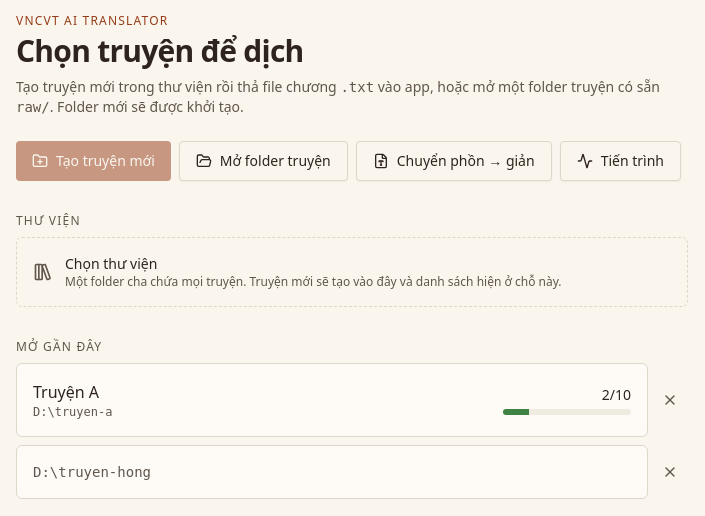
it: StoryPicker · Mở gần đây › bấm X bỏ truyện khỏi danh sách: chỉ ghi config.recent, không gọi gì xoá file
This screenshot has width=705, height=516.
Check: the text "Truyện A" is shown, box x1=33 y1=380 x2=99 y2=404
Click the button named "Bỏ D:\\truyen-a khỏi danh sách". click: (670, 400)
box: x1=652 y1=363 x2=688 y2=437
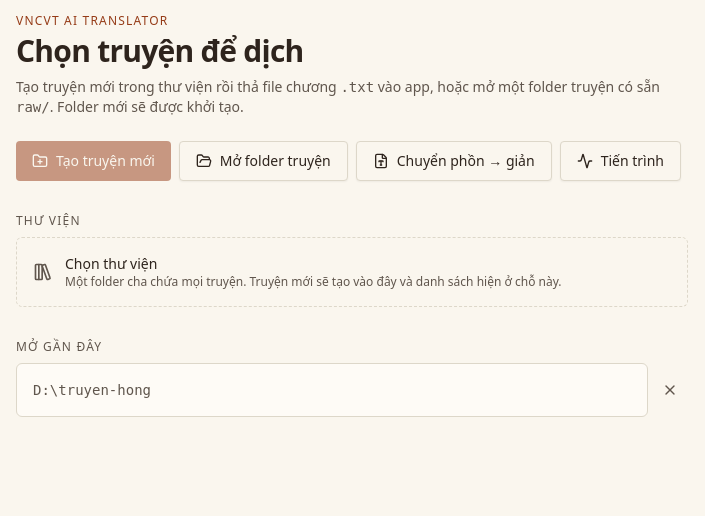
Check: the button "Truyện A" is gone
# Folder hỏng (không đọc được) vẫn bỏ được — đó là lúc cần nút này nhất.
Click the button named "Bỏ D:\\truyen-hong khỏi danh sách". click: (670, 390)
box: x1=652 y1=363 x2=688 y2=417
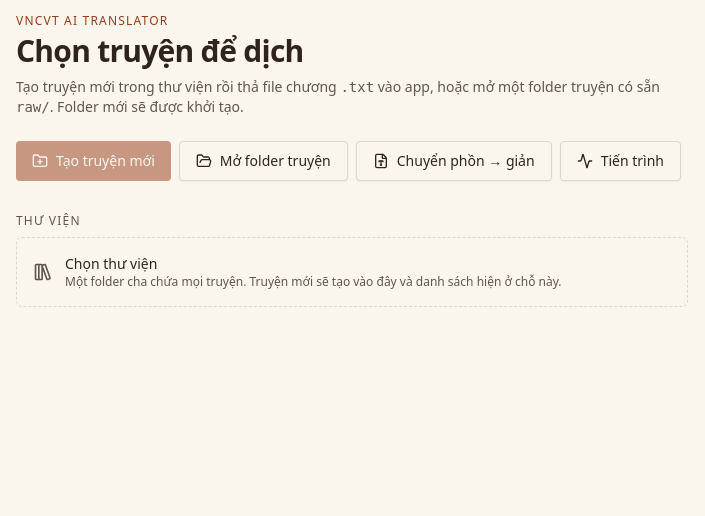
Check: the heading "Mở gần đây" is gone
